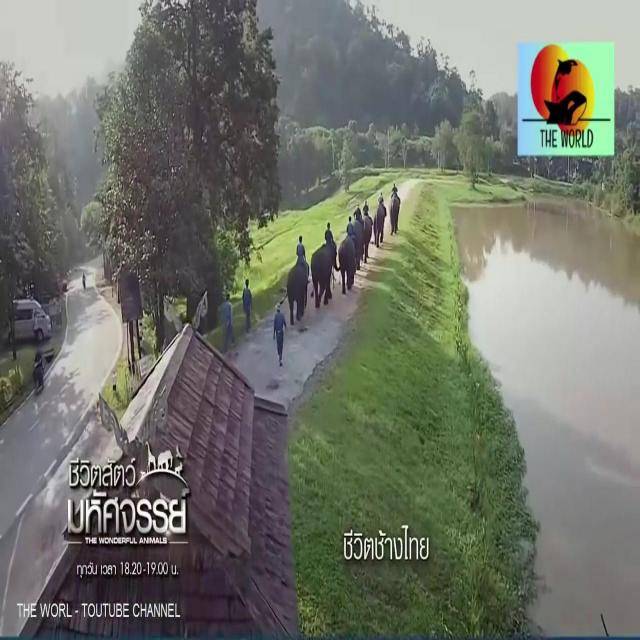Elephant: (312, 248, 339, 294), (286, 266, 310, 312), (340, 240, 354, 287), (372, 208, 388, 245), (387, 198, 401, 235), (353, 224, 364, 268), (361, 218, 372, 258)
